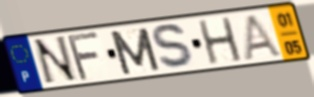A: (242, 12, 286, 61)
F: (66, 30, 103, 83)
H: (196, 15, 246, 67)
M: (107, 26, 163, 77)
N: (31, 34, 81, 87)
S: (150, 22, 199, 72)
